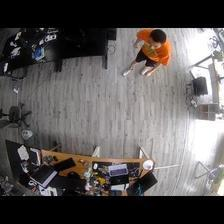fall: (121, 29, 170, 75)
